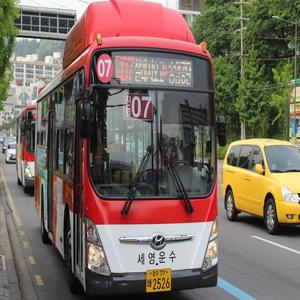07bus: (30, 13, 245, 298)
backdoor: (41, 90, 62, 234)
frontdoor: (71, 88, 85, 276)
